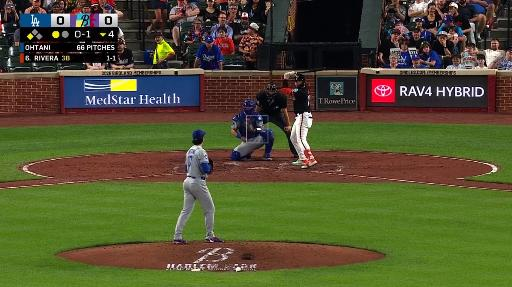pitcher: (174, 130, 225, 244)
